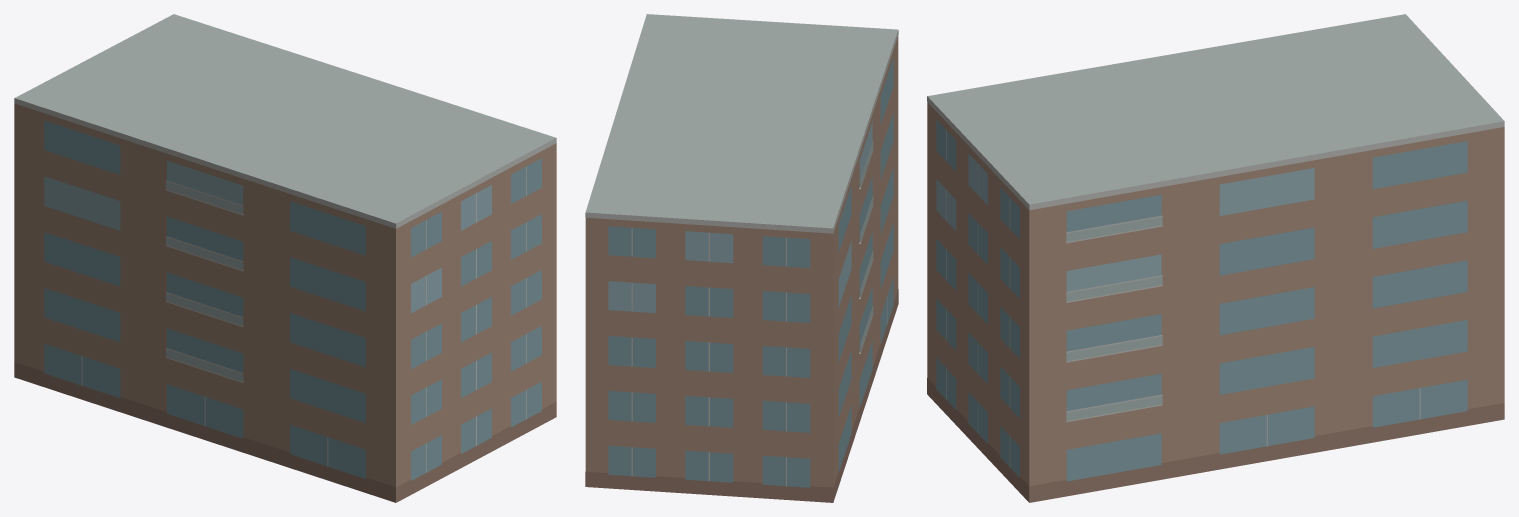
The model's file is survey-upis-32680872.glb.
3 renders of one model, left to right at view 1: azimuth 30°, elevation 25°; view 2: azimuth 150°, elevation 25°; view 3: azimuth 270°, elevation 25°, orthographic. The views are drawn at different scales.
Visible parts, largest first — view 1: survey-upis-32680872.tmp; view 2: survey-upis-32680872.tmp; view 3: survey-upis-32680872.tmp.
Part boxes in pixels (x1,y1,x2,y2): survey-upis-32680872.tmp: (14, 14, 556, 502); survey-upis-32680872.tmp: (585, 14, 898, 502); survey-upis-32680872.tmp: (927, 14, 1504, 502).
Bounding box in the file's own units: 17.77 × 12.95 × 22.74.
